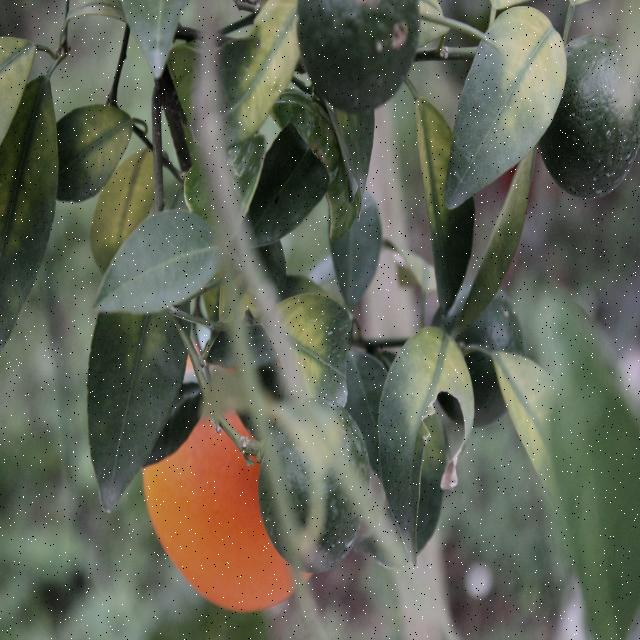greening: (457, 17, 569, 164), (496, 341, 574, 490), (226, 10, 299, 122), (101, 163, 152, 279), (270, 297, 339, 374), (79, 96, 137, 185)
